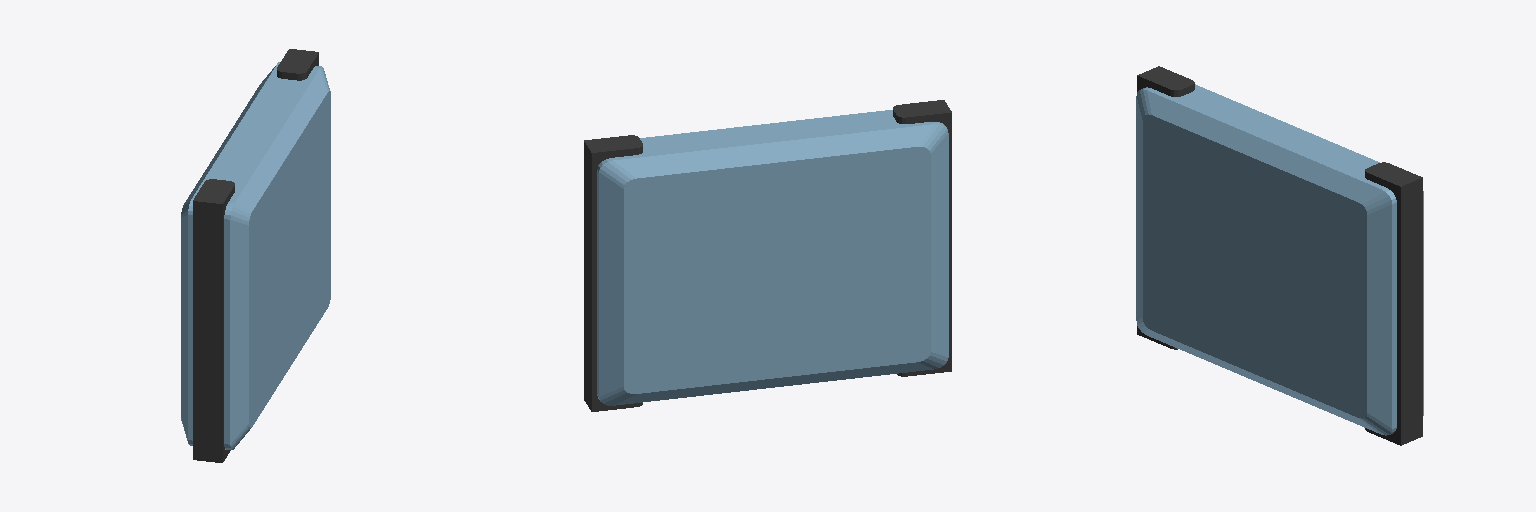
The model's file is mirror_stationary.obj.
The picture shows the model from 3 angles: view 1: azimuth 30°, elevation 25°; view 2: azimuth 150°, elevation 25°; view 3: azimuth 270°, elevation 25°; orthographic projection.
Visible parts, largest first — view 1: Cube.000_Cube.001; view 2: Cube.000_Cube.001; view 3: Cube.000_Cube.001.
Boxes of the visible parts, x1,y1,x2,y2 form: Cube.000_Cube.001: [181, 49, 330, 462]; Cube.000_Cube.001: [584, 100, 951, 411]; Cube.000_Cube.001: [1136, 66, 1423, 445].
Size of the model in its own units: 1 by 1 by 1.